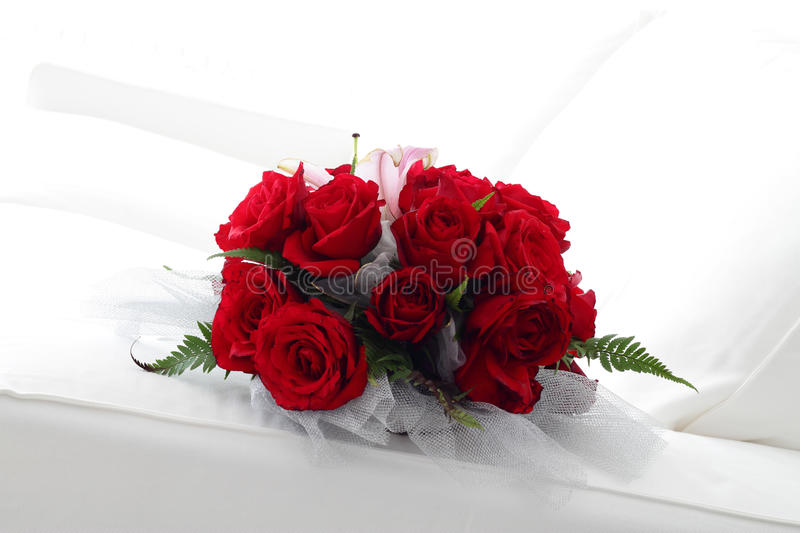RedRose: (285, 170, 400, 280), (261, 297, 361, 408), (459, 282, 572, 367), (211, 157, 308, 254), (204, 251, 285, 367), (475, 209, 575, 293), (392, 193, 474, 275), (364, 259, 446, 339), (498, 171, 577, 247), (404, 155, 494, 213), (456, 356, 547, 408), (558, 282, 598, 349)
